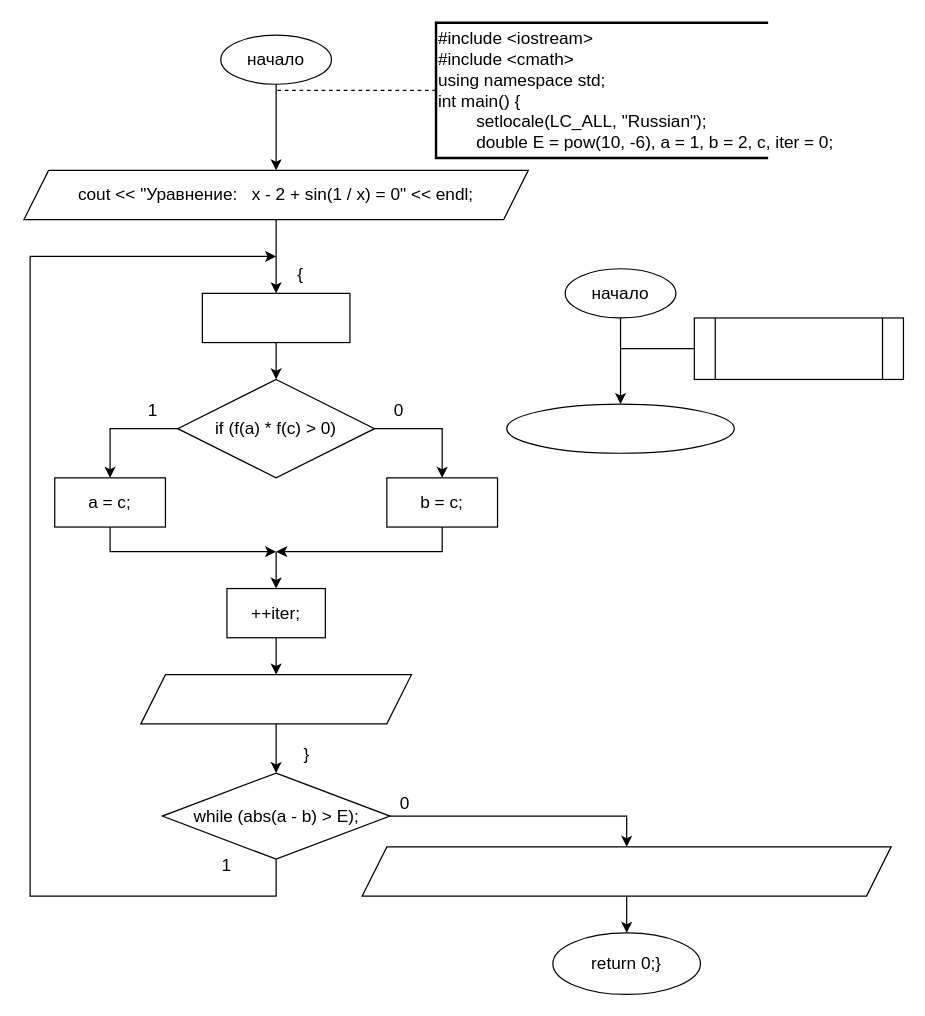
The diagram is 925 pixels wide and 1016 high, and some of its shapes have lost their labels. The shapes that lost their labels are listed below. From the top down, each one's centre as x and y in pixels, then its label:
the point at 275,317: c = (a + b) / 2;
the point at 798,348: double f(double x) {
the point at 620,428: return x - 2 + sin(1 / x);}
the point at 275,698: cout << "c = " << c << endl;
the point at 626,871: cout << "x = " << c << endl << "Количество итераций: " << iter;
